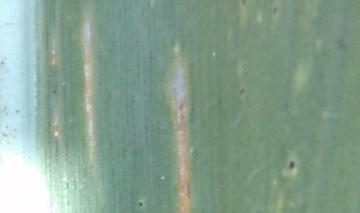tarspot: (286, 156, 296, 174), (136, 198, 145, 211)
